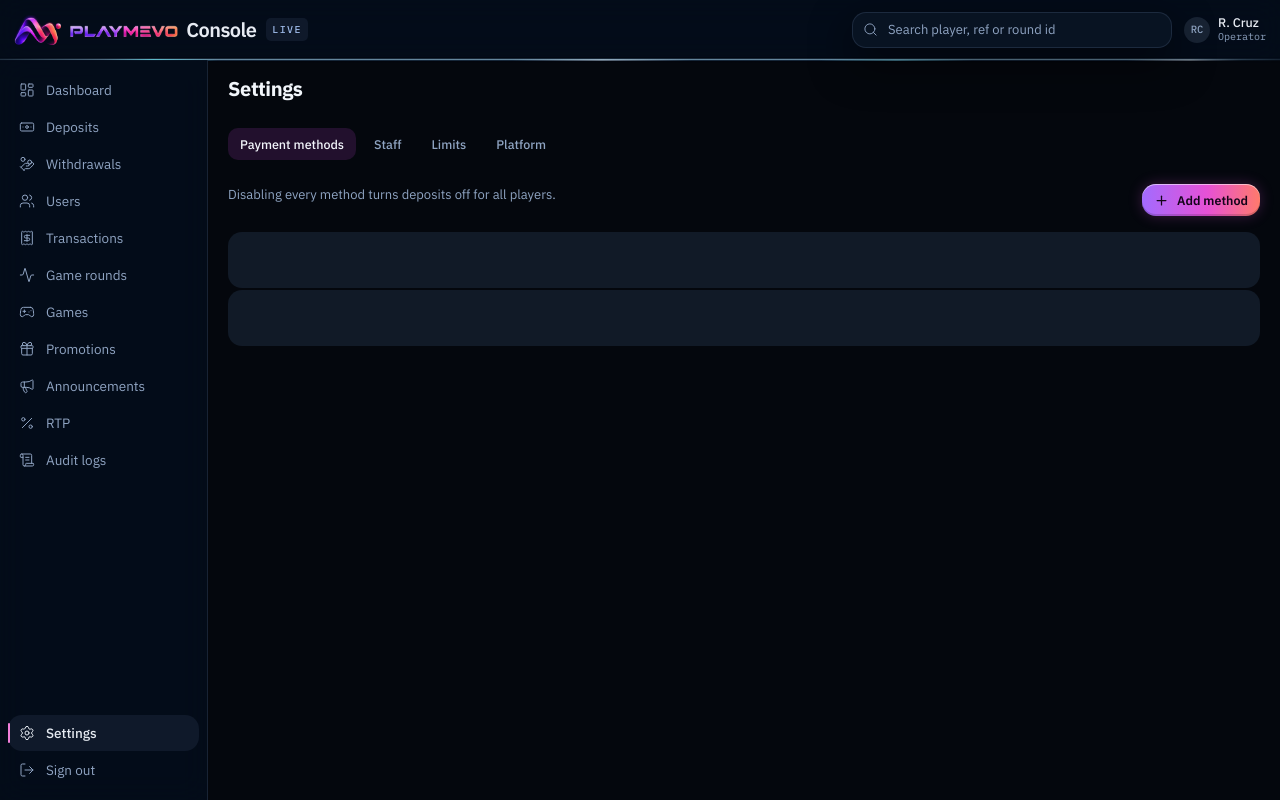
Scenario: console search › groups player results and opens the selected account
The image size is (1280, 800).
Type "jmart" into the dropdown named "Search the console".
click(1024, 30); type("jmart")  # box [888,12,1161,46]
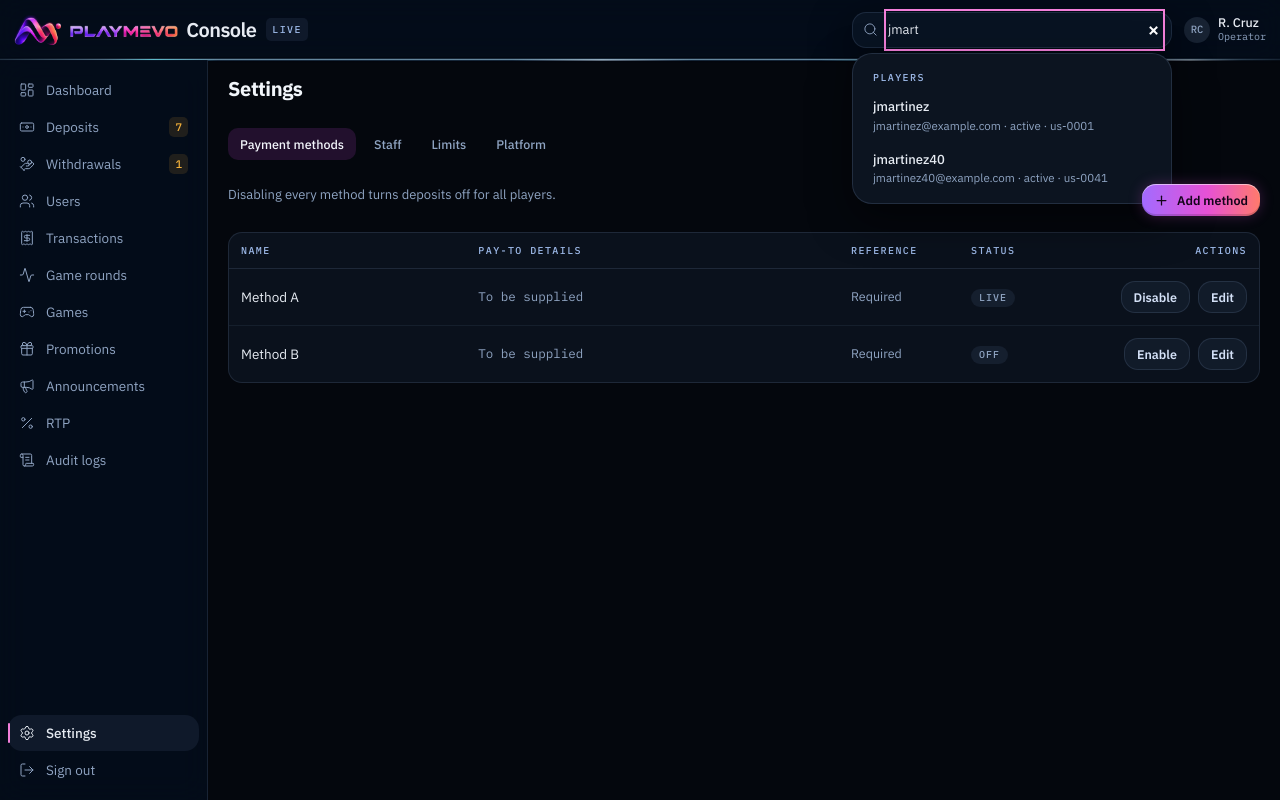
Expected: the text "Players" is shown, [873,71,925,84]
Click the option "jmartinez jmartinez@example.com · active · us-0001".
click(1012, 116)  # box [861,89,1163,142]
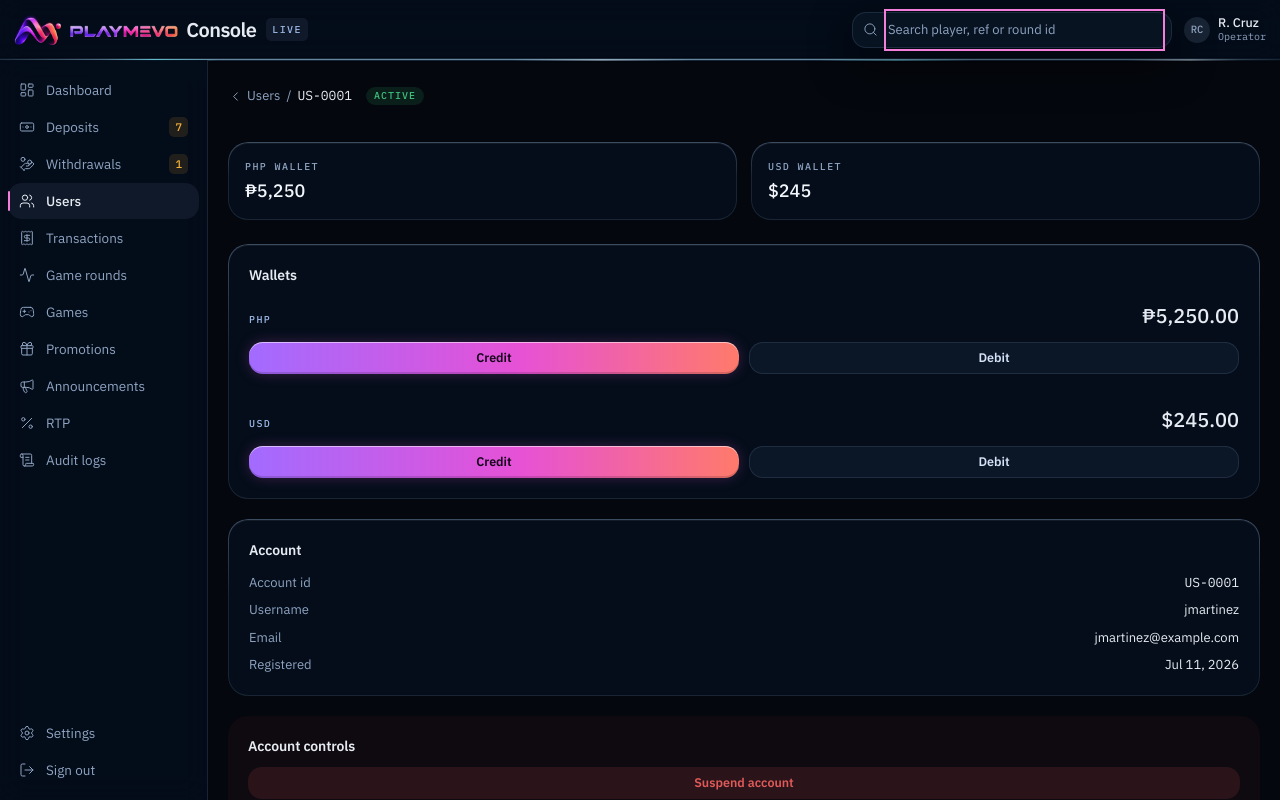
Expected: the text "PHP wallet" is shown, [245,160,319,173]
